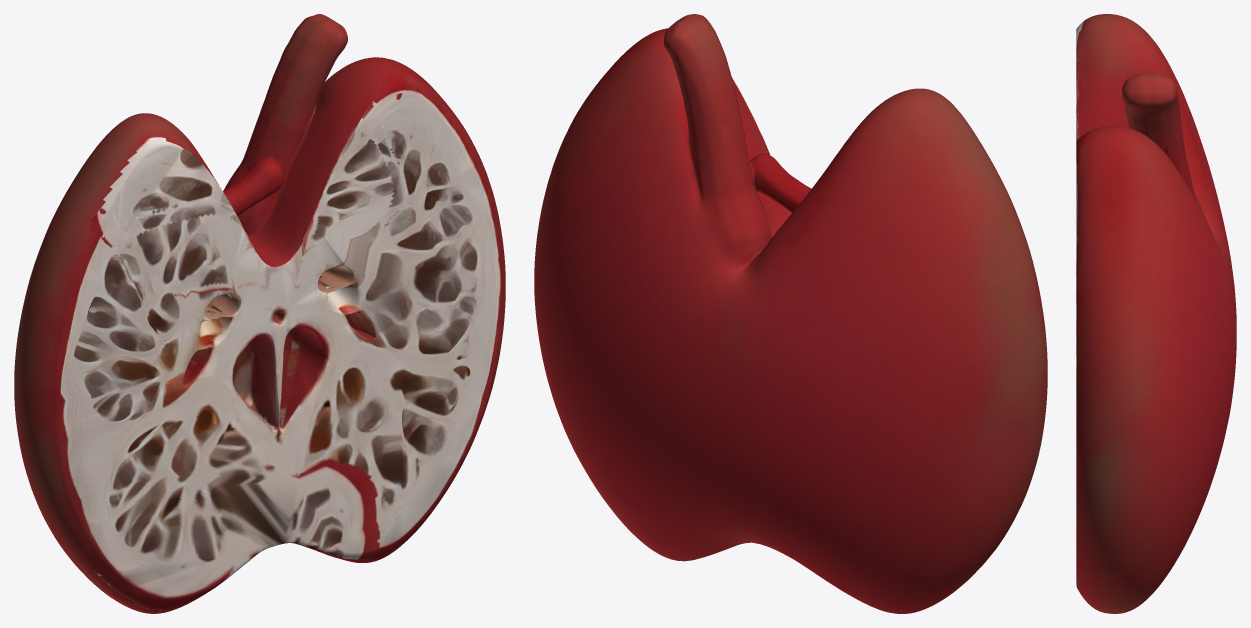
File: vet_v2_organ_cat_thyroid.glb
The picture shows the model from 3 angles, left to right: view 1: azimuth 30°, elevation 25°; view 2: azimuth 150°, elevation 25°; view 3: azimuth 270°, elevation 25°; orthographic projection. The views are drawn at different scales.
Parts seen in each view (by area): view 1: model; view 2: model; view 3: model.
Part boxes in pixels (x1,y1,x2,y2): model: [14, 14, 505, 613]; model: [534, 14, 1047, 613]; model: [1076, 14, 1236, 613].
Size of the model in its own units: 1.78 by 1.9 by 0.5295.
Materials: 1 (1 with a texture image).
